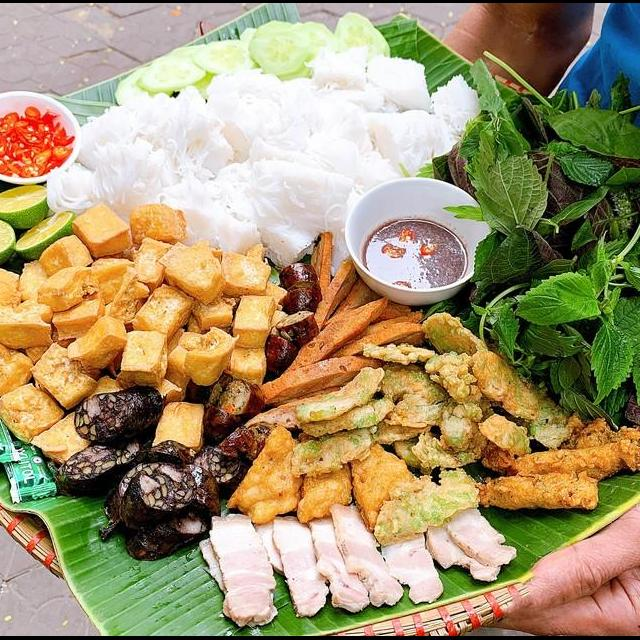bun: (21, 39, 488, 286)
bun dau: (0, 85, 637, 636)
cha com: (284, 306, 574, 552), (220, 420, 434, 536)
cha gio: (467, 407, 640, 520)
dau hu: (0, 196, 292, 463)
doi sun: (90, 436, 224, 572), (49, 377, 172, 498), (193, 419, 270, 498), (198, 363, 270, 442), (258, 306, 322, 378), (276, 258, 328, 322)
thit heo: (248, 499, 412, 624), (194, 508, 298, 634), (412, 504, 528, 588), (362, 526, 452, 612)
